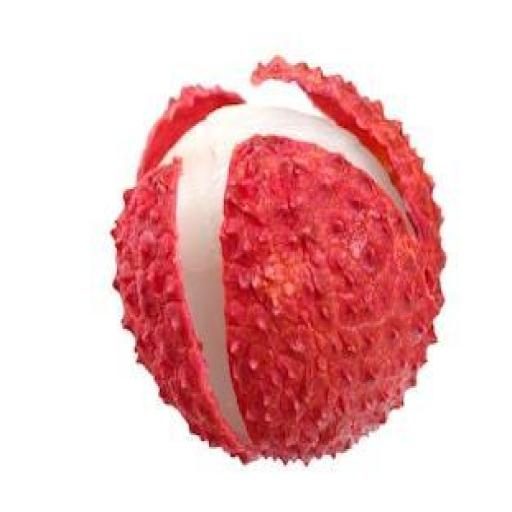lychee: (113, 60, 443, 460)
